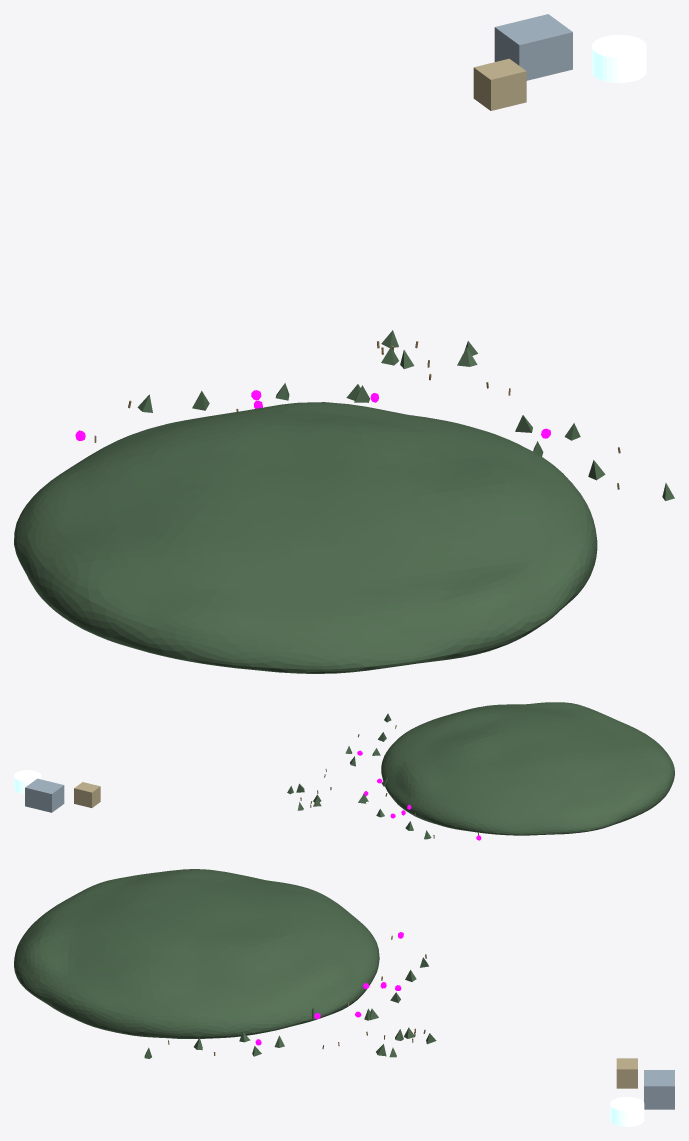
File: Island_ShadowRuins.fbx
The picture shows the model from 3 angles, top to bottom: view 1: azimuth 30°, elevation 25°; view 2: azimuth 150°, elevation 25°; view 3: azimuth 270°, elevation 25°; orthographic projection. The views are drawn at different scales.
Parts seen in each view (by area): view 1: TERRAIN_ShadowRuins, LAB_BUILDING, HEALER_CENTER, SHOP_BUILDING; view 2: TERRAIN_ShadowRuins, LAB_BUILDING, SHOP_BUILDING, HEALER_CENTER; view 3: TERRAIN_ShadowRuins, LAB_BUILDING, HEALER_CENTER, SHOP_BUILDING.
Boxes of the visible parts, left/top/right/bottom form: TERRAIN_ShadowRuins: left=14, top=402, right=597, bottom=673; LAB_BUILDING: left=494, top=14, right=572, bottom=80; HEALER_CENTER: left=592, top=35, right=646, bottom=82; SHOP_BUILDING: left=473, top=58, right=526, bottom=110; TERRAIN_ShadowRuins: left=381, top=702, right=674, bottom=835; LAB_BUILDING: left=25, top=778, right=64, bottom=812; SHOP_BUILDING: left=74, top=782, right=100, bottom=807; HEALER_CENTER: left=14, top=770, right=41, bottom=793; TERRAIN_ShadowRuins: left=14, top=869, right=379, bottom=1038; LAB_BUILDING: left=644, top=1070, right=674, bottom=1109; HEALER_CENTER: left=610, top=1096, right=644, bottom=1126; SHOP_BUILDING: left=616, top=1058, right=637, bottom=1088.
Size of the model in its own units: 313 by 40.36 by 308.
